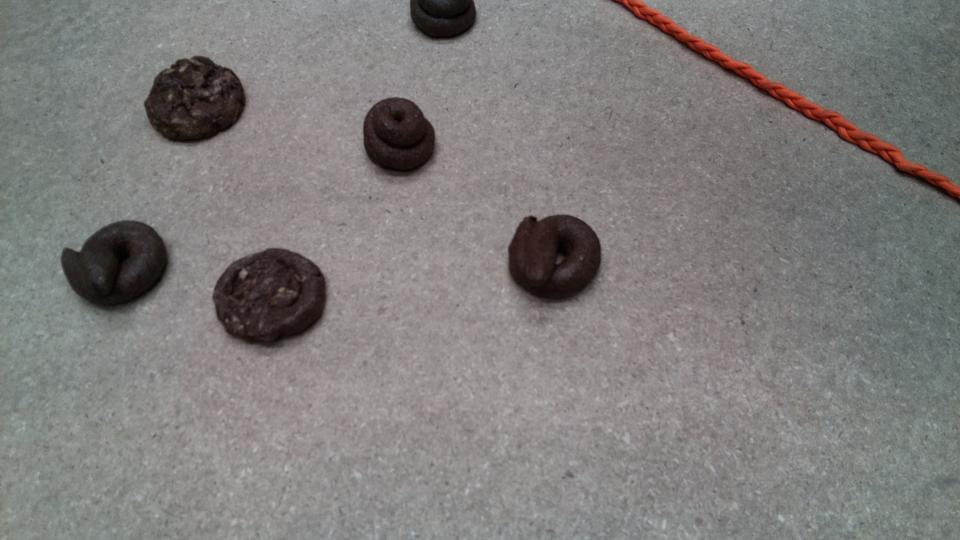poop: (209, 245, 332, 350), (58, 216, 173, 313), (141, 51, 248, 147), (505, 210, 605, 306), (359, 95, 440, 178), (405, 1, 483, 43)
rope: (626, 1, 960, 197)
